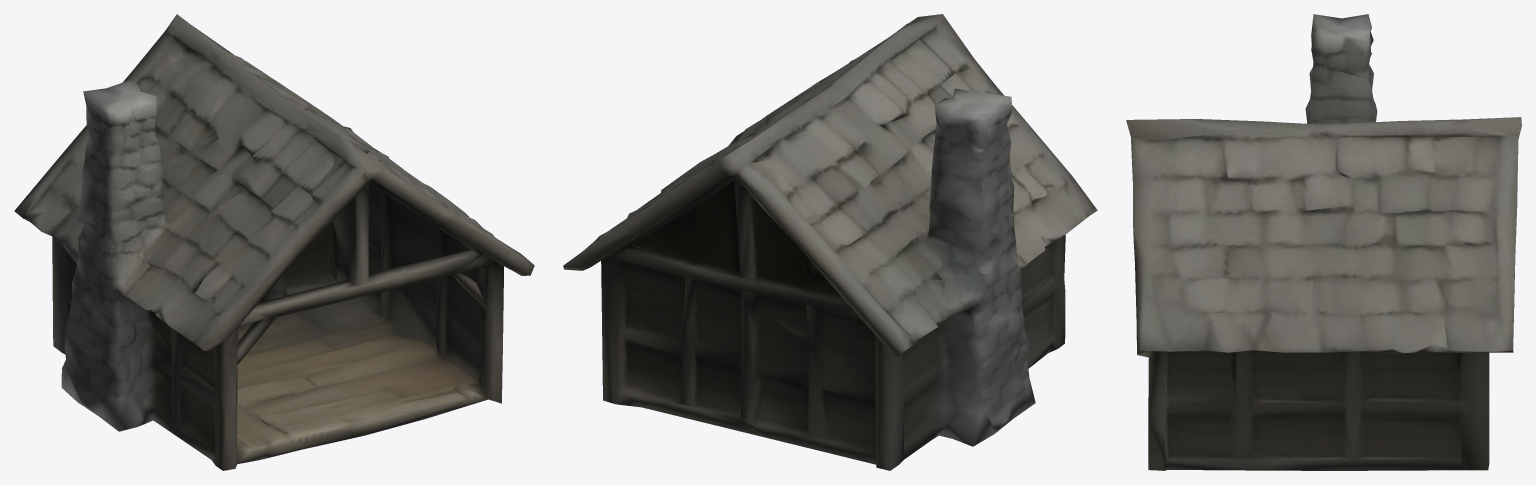
File: forge.glb
3 renders of one model, left to right at view 1: azimuth 30°, elevation 25°; view 2: azimuth 150°, elevation 25°; view 3: azimuth 270°, elevation 25°, orthographic. The views are drawn at different scales.
Parts seen in each view (by area): view 1: tripo_node_ec3ac97b-94f4-46db-8622-98dc81c466f4; view 2: tripo_node_ec3ac97b-94f4-46db-8622-98dc81c466f4; view 3: tripo_node_ec3ac97b-94f4-46db-8622-98dc81c466f4.
Part boxes in pixels (x1,y1,x2,y2): tripo_node_ec3ac97b-94f4-46db-8622-98dc81c466f4: (14, 14, 534, 470); tripo_node_ec3ac97b-94f4-46db-8622-98dc81c466f4: (563, 14, 1097, 470); tripo_node_ec3ac97b-94f4-46db-8622-98dc81c466f4: (1126, 14, 1521, 470).
Size of the model in its own units: 1 by 0.8331 by 0.9746.
Materials: 1 (1 with a texture image).
